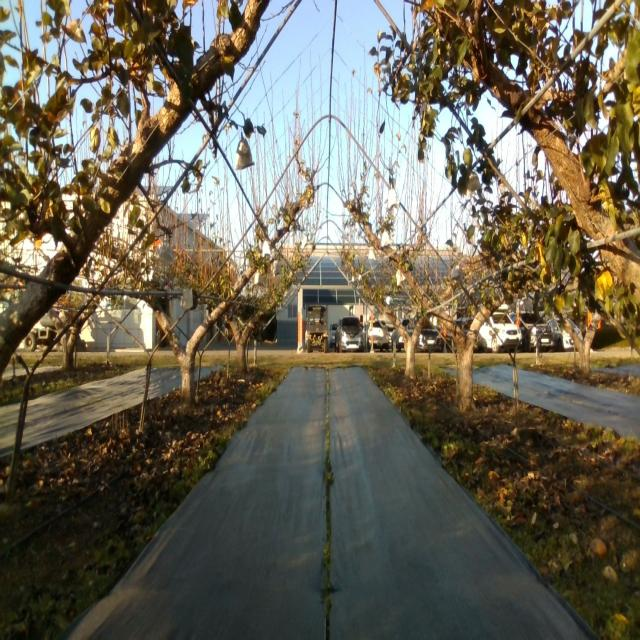pearbags: (235, 130, 254, 170), (153, 238, 175, 266), (464, 170, 482, 198)
